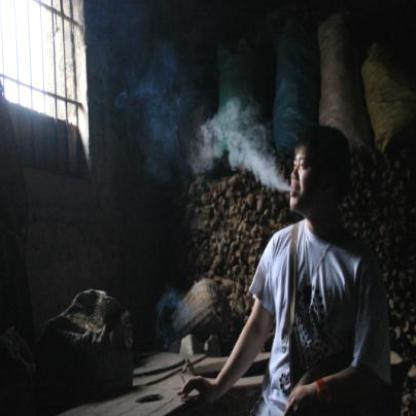person: (233, 127, 375, 416)
smoke: (204, 104, 286, 194)
